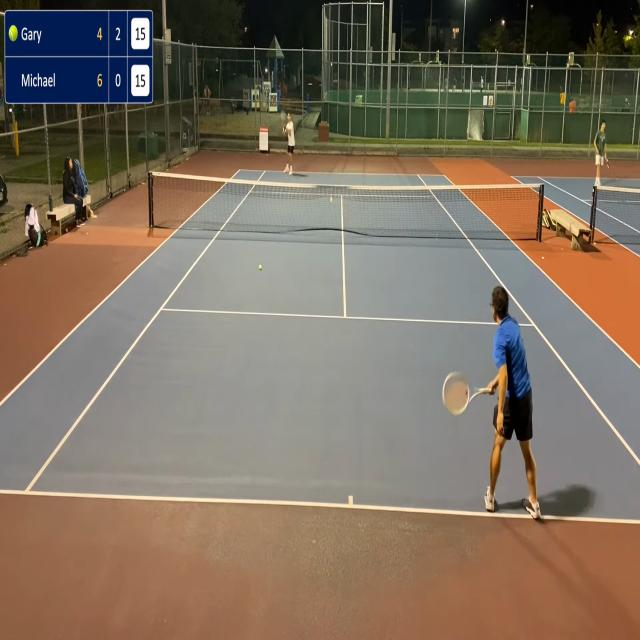ball: (257, 263, 263, 270), (330, 195, 333, 204)
